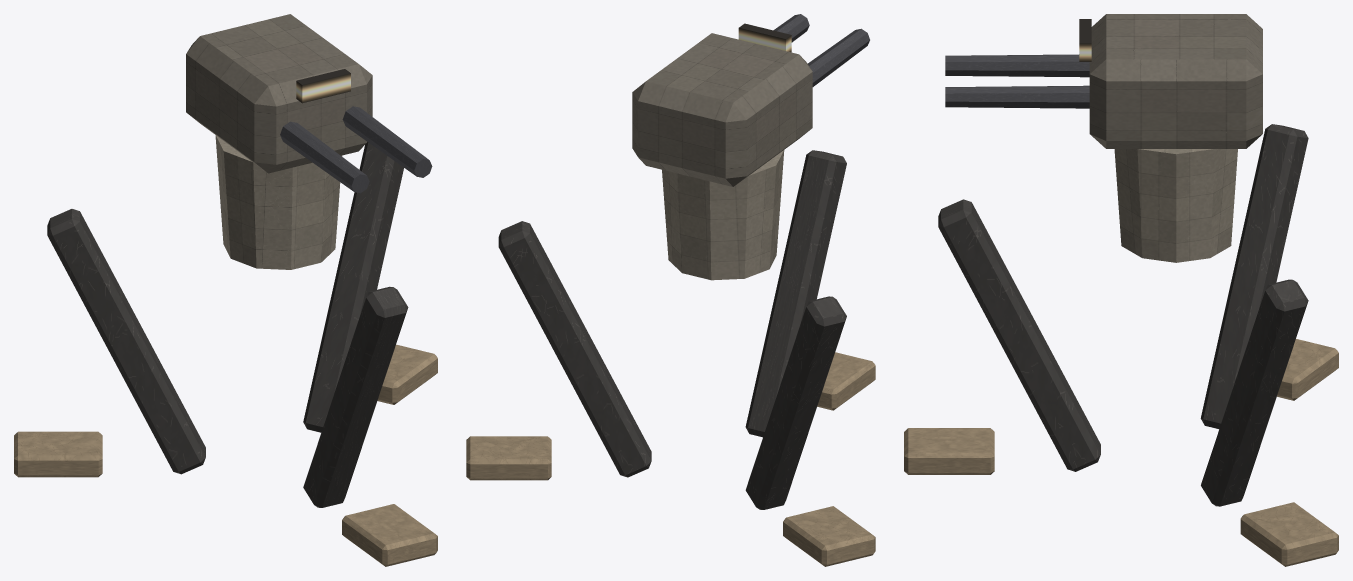
The model's file is dep_fabturret.obj.
3 renders of one model, left to right at view 1: azimuth 30°, elevation 25°; view 2: azimuth 150°, elevation 25°; view 3: azimuth 270°, elevation 25°, orthographic. The views are drawn at different scales.
Visible parts, largest first — view 1: dep_fabturret; view 2: dep_fabturret; view 3: dep_fabturret.
Boxes of the visible parts, left/top/right/bottom form: dep_fabturret: left=14, top=14, right=437, bottom=566; dep_fabturret: left=466, top=14, right=875, bottom=566; dep_fabturret: left=904, top=14, right=1338, bottom=566.
Size of the model in its own units: 1.21 by 1.17 by 1.05.
1 material, 1 textured.
